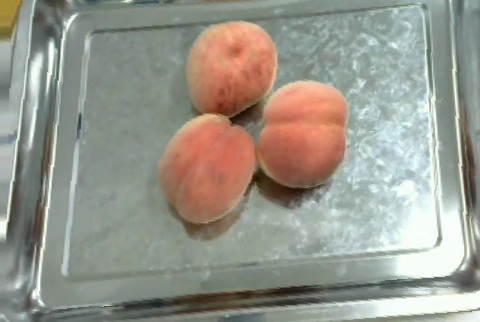Peach: (158, 114, 254, 223), (256, 80, 348, 188), (186, 18, 279, 116)
